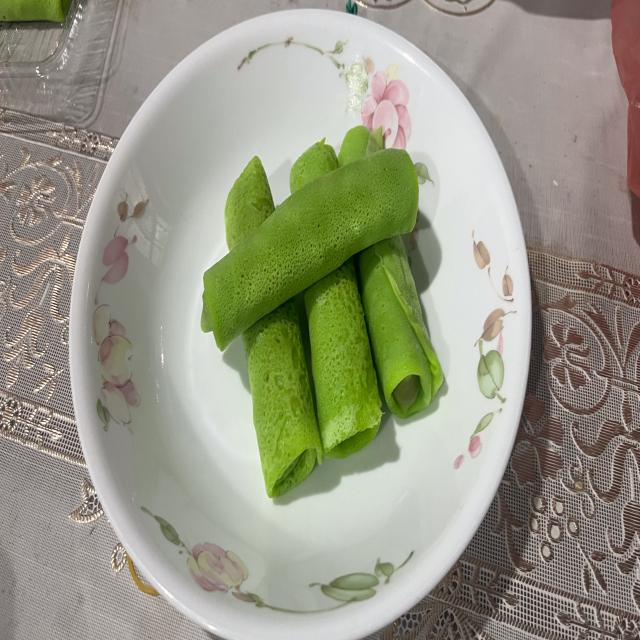Kuih-Ketayap: (201, 149, 419, 351), (242, 300, 325, 498), (304, 258, 381, 458), (358, 236, 442, 418), (225, 156, 274, 249), (290, 140, 339, 193), (338, 124, 382, 167)
